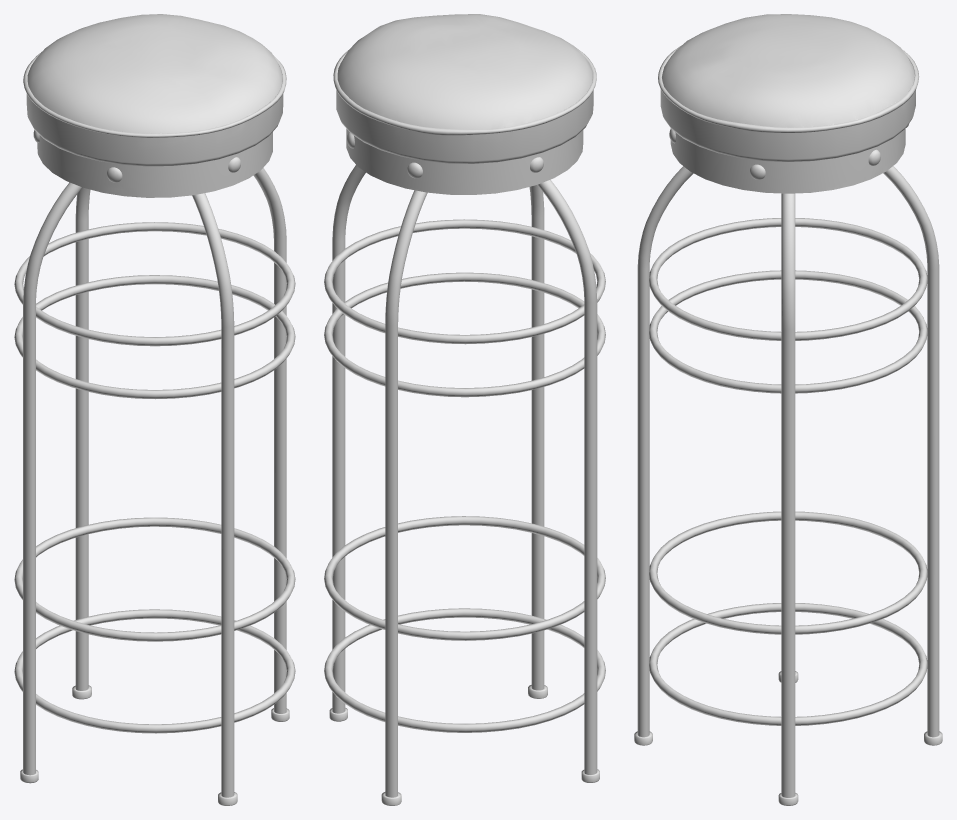
3 renders of one model, left to right at view 1: azimuth 30°, elevation 25°; view 2: azimuth 150°, elevation 25°; view 3: azimuth 270°, elevation 25°, orthographic.
Parts seen in each view (by area): view 1: metal_stool_01; view 2: metal_stool_01; view 3: metal_stool_01.
Part boxes in pixels (bbox=[...]): metal_stool_01: bbox=[14, 14, 295, 805]; metal_stool_01: bbox=[324, 14, 605, 805]; metal_stool_01: bbox=[634, 14, 942, 805].
Bounding box in the file's own units: 0.352 × 0.8828 × 0.3546.
Materials: 1 (1 with a texture image).
